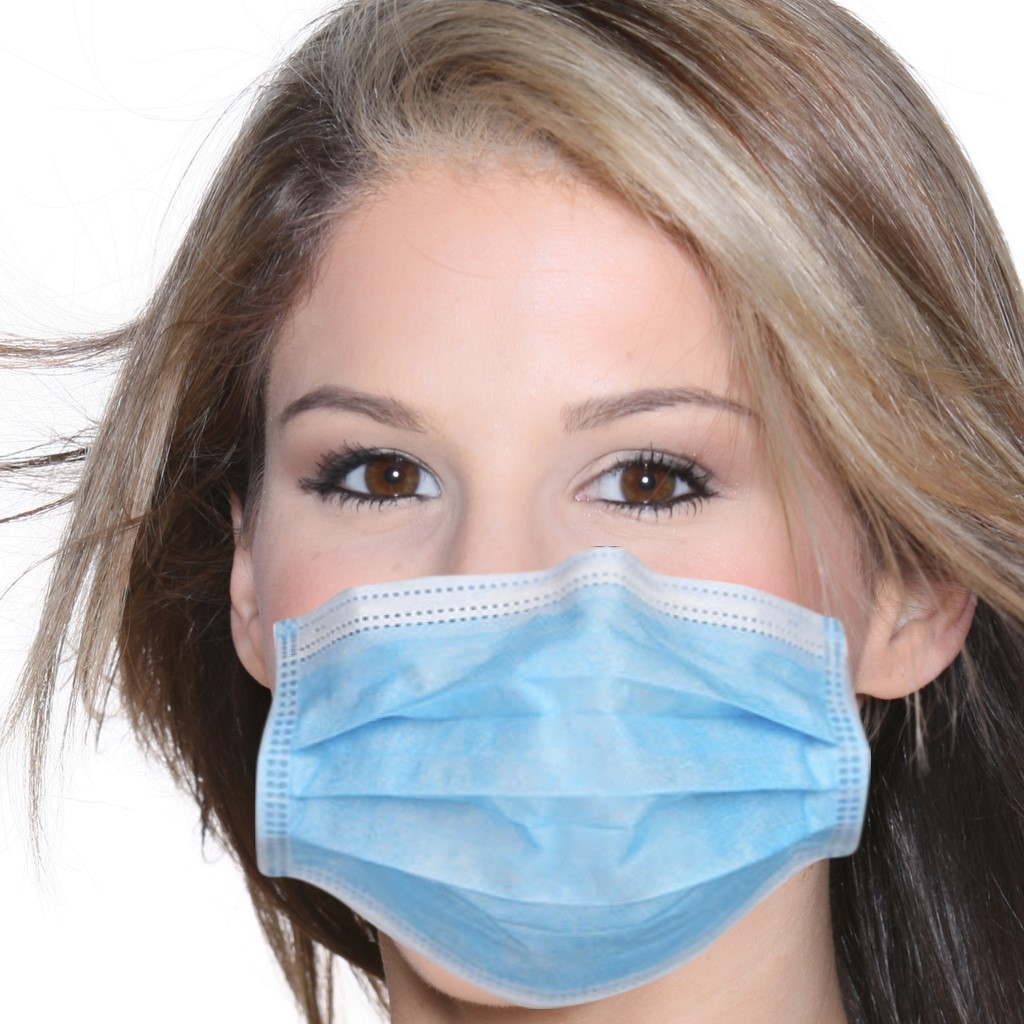con_mascara: (226, 122, 869, 954)
